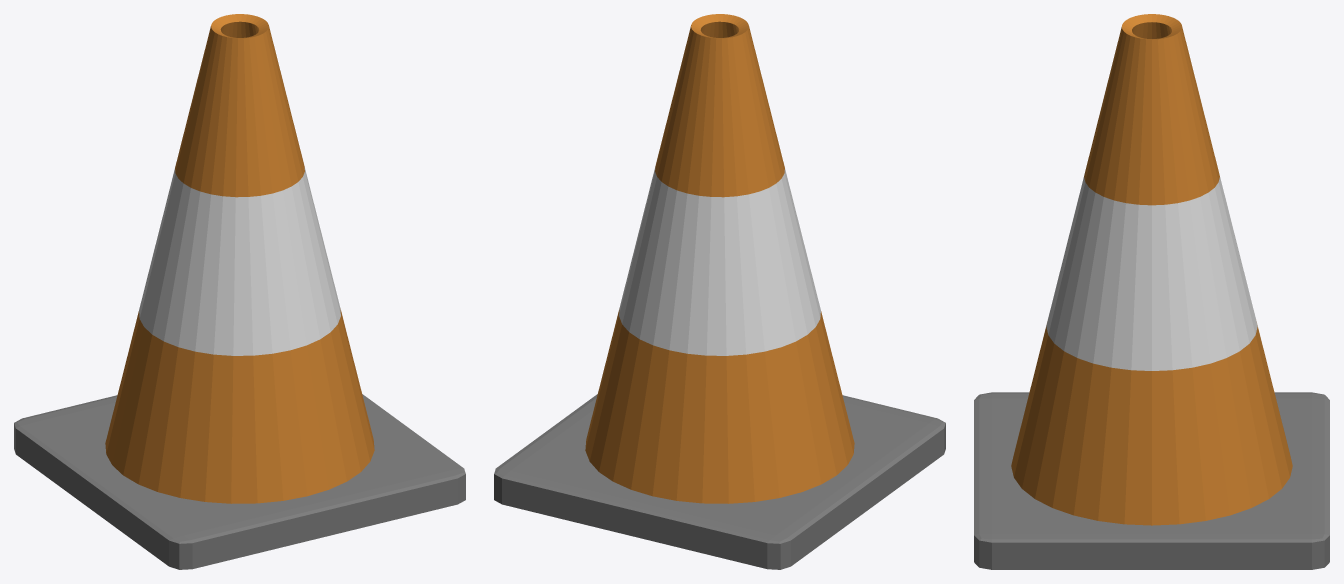
File: traffic cone.fbx
3 views of the same model, side by side, from view 1: azimuth 30°, elevation 25°; view 2: azimuth 150°, elevation 25°; view 3: azimuth 270°, elevation 25° (orthographic). The views are drawn at different scales.
Parts seen in each view (by area): view 1: Cylinder; view 2: Cylinder; view 3: Cylinder.
Boxes of the visible parts, <box> form: Cylinder: <box>14,14,465,569</box>; Cylinder: <box>494,14,945,569</box>; Cylinder: <box>974,14,1329,569</box>.
Size of the model in its own units: 1.24 by 1.8 by 1.24.
